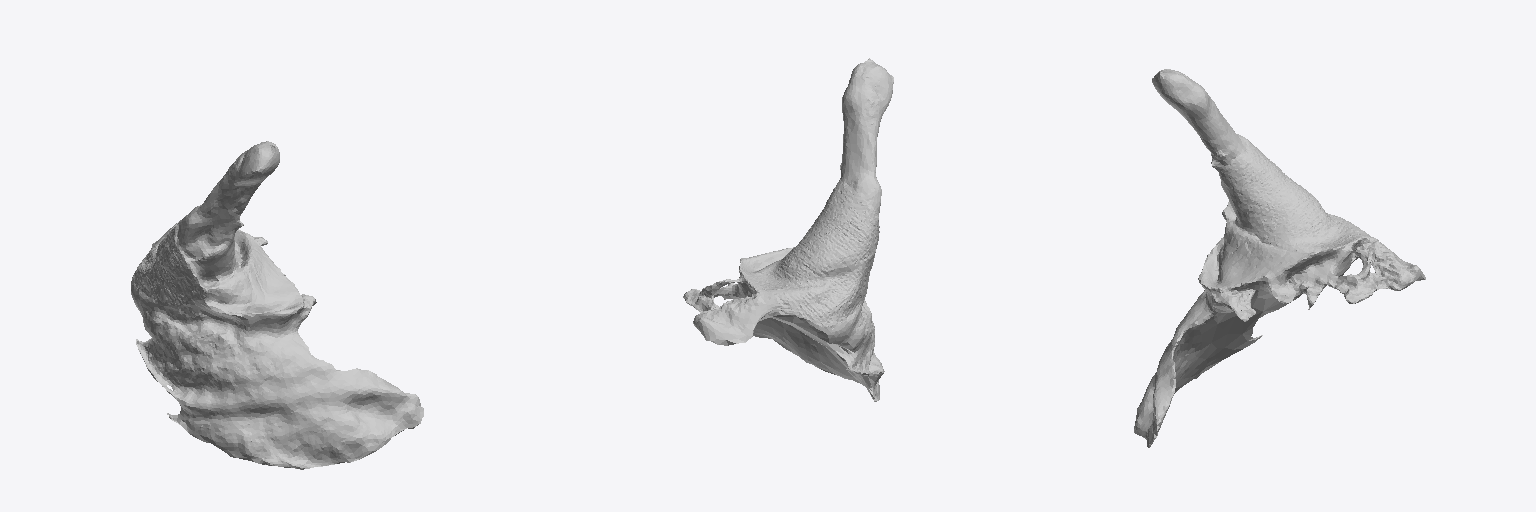
The model's file is usdz.obj.
3 views of the same model, side by side, from view 1: azimuth 30°, elevation 25°; view 2: azimuth 150°, elevation 25°; view 3: azimuth 270°, elevation 25° (orthographic).
Parts seen in each view (by area): view 1: submesh; view 2: submesh; view 3: submesh.
Part boxes in pixels (x1,y1,x2,y2): submesh: (131,141,423,469); submesh: (683,58,893,401); submesh: (1134,69,1425,447).
Size of the model in its own units: 0.5397 by 0.8084 by 0.6498.